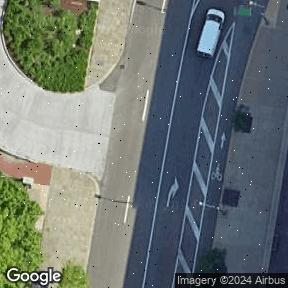vegetation: (0, 172, 43, 288), (57, 262, 89, 288)
